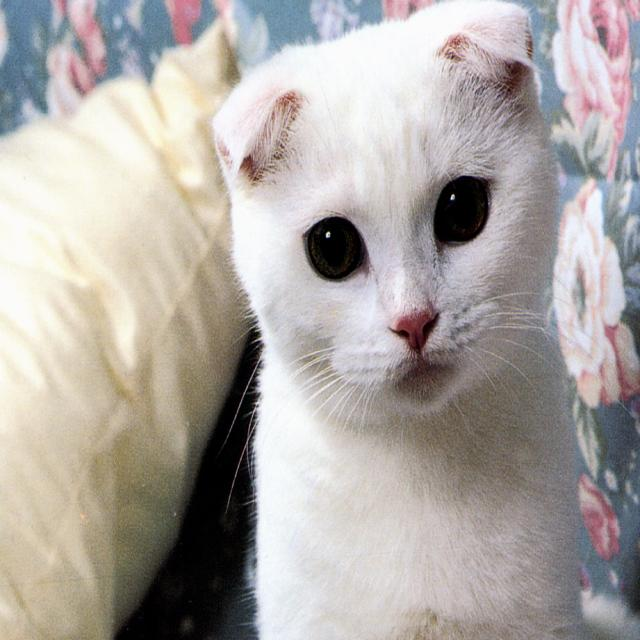Scottish Fold: (209, 0, 640, 640)
